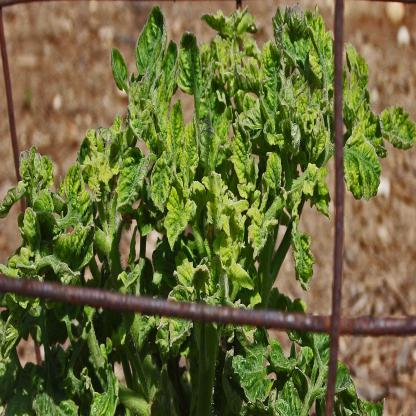tomato leaf yellow virus: (229, 345, 281, 416), (340, 133, 383, 217), (130, 4, 174, 85), (41, 221, 95, 283), (174, 18, 211, 103), (112, 147, 152, 219), (231, 112, 258, 213), (303, 11, 332, 94), (344, 53, 374, 133), (148, 140, 178, 217), (260, 40, 286, 127), (379, 100, 416, 156), (289, 219, 316, 294), (203, 171, 231, 242), (163, 192, 194, 256), (275, 364, 311, 416), (299, 161, 331, 217), (179, 118, 202, 195), (166, 87, 184, 182), (88, 364, 118, 416), (175, 254, 211, 297), (61, 156, 89, 202), (265, 152, 288, 198), (228, 263, 258, 295), (31, 187, 57, 219)
